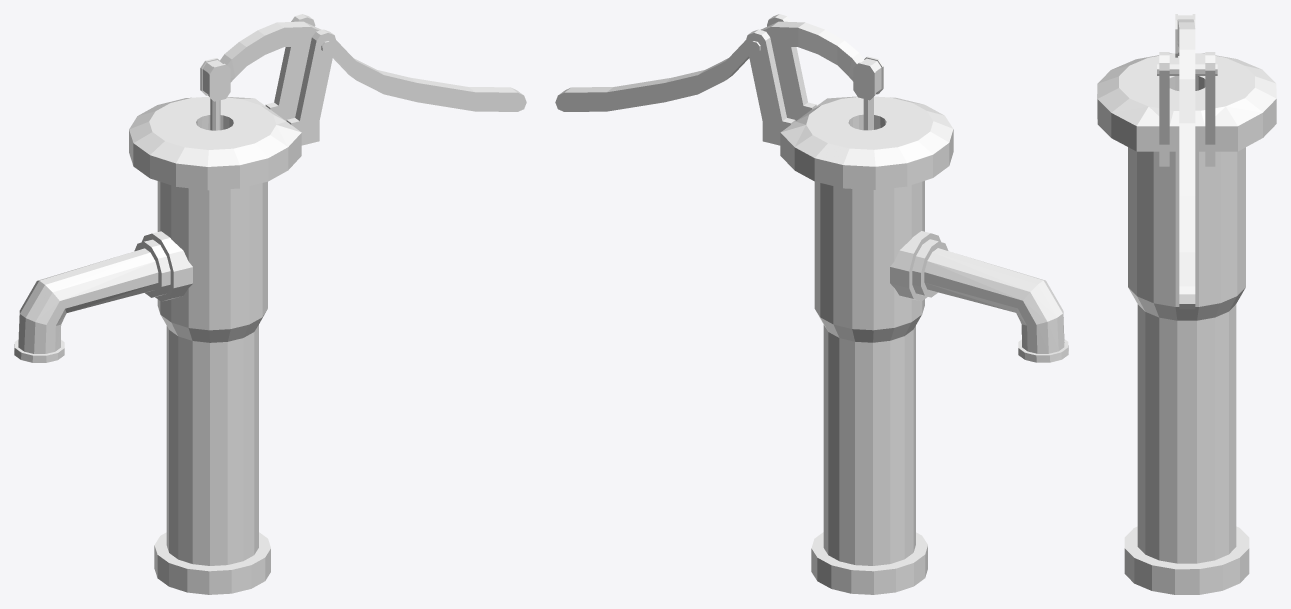
File: Prop_Water_Pump_01.glb
3 renders of one model, left to right at view 1: azimuth 30°, elevation 25°; view 2: azimuth 150°, elevation 25°; view 3: azimuth 270°, elevation 25°, orthographic. The views are drawn at different scales.
Parts seen in each view (by area): view 1: Prop_Water Pump_01, Prop_Water Pump_Handle_01; view 2: Prop_Water Pump_01, Prop_Water Pump_Handle_01; view 3: Prop_Water Pump_01, Prop_Water Pump_Handle_01.
Part boxes in pixels (<box>): Prop_Water Pump_01: <box>14,14,336,594</box>; Prop_Water Pump_Handle_01: <box>200,21,526,111</box>; Prop_Water Pump_01: <box>746,14,1068,594</box>; Prop_Water Pump_Handle_01: <box>555,21,883,111</box>; Prop_Water Pump_01: <box>1097,52,1276,594</box>; Prop_Water Pump_Handle_01: <box>1175,14,1195,309</box>.
Size of the model in its own units: 1.34 by 1.34 by 0.3789.
1 material, 1 textured.
